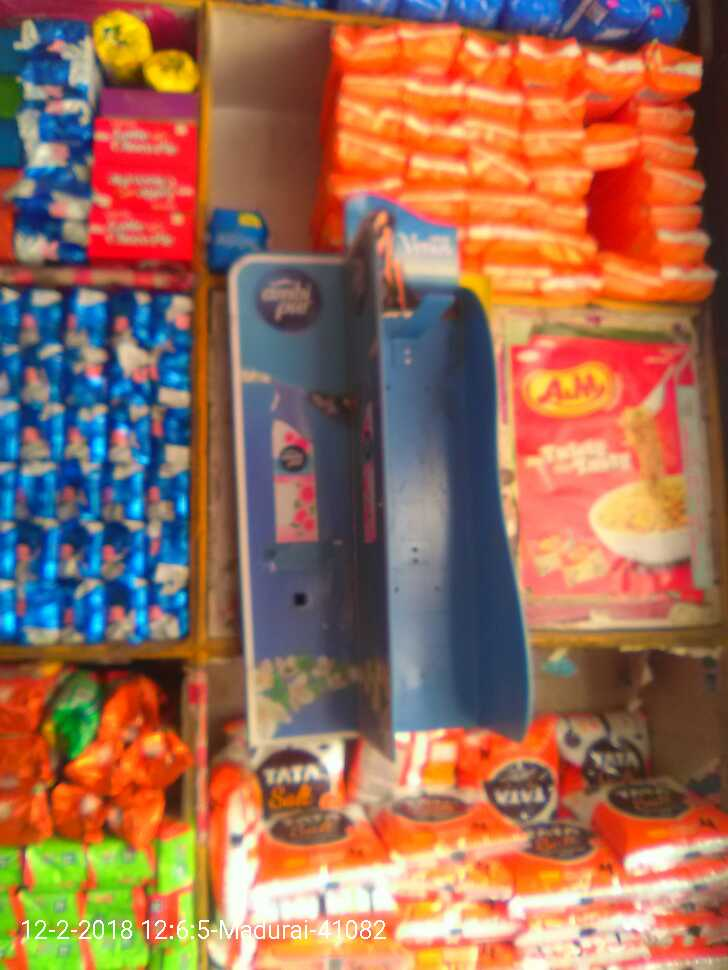reject: (286, 365, 565, 643)
